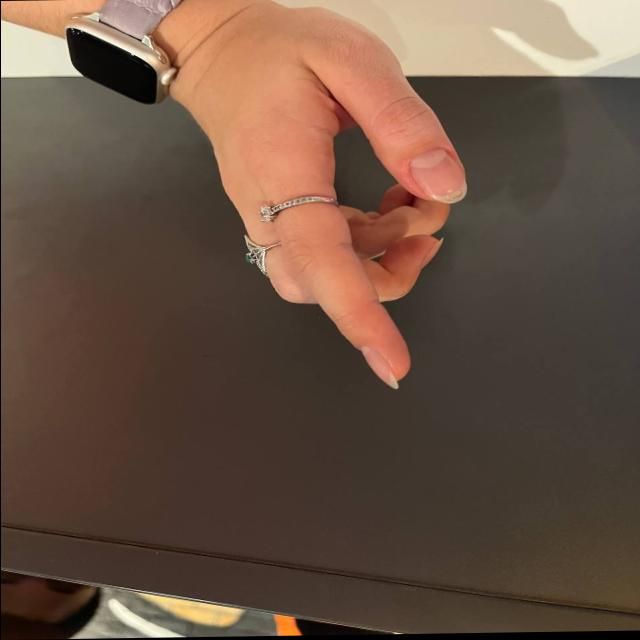b: (205, 52, 504, 390)
